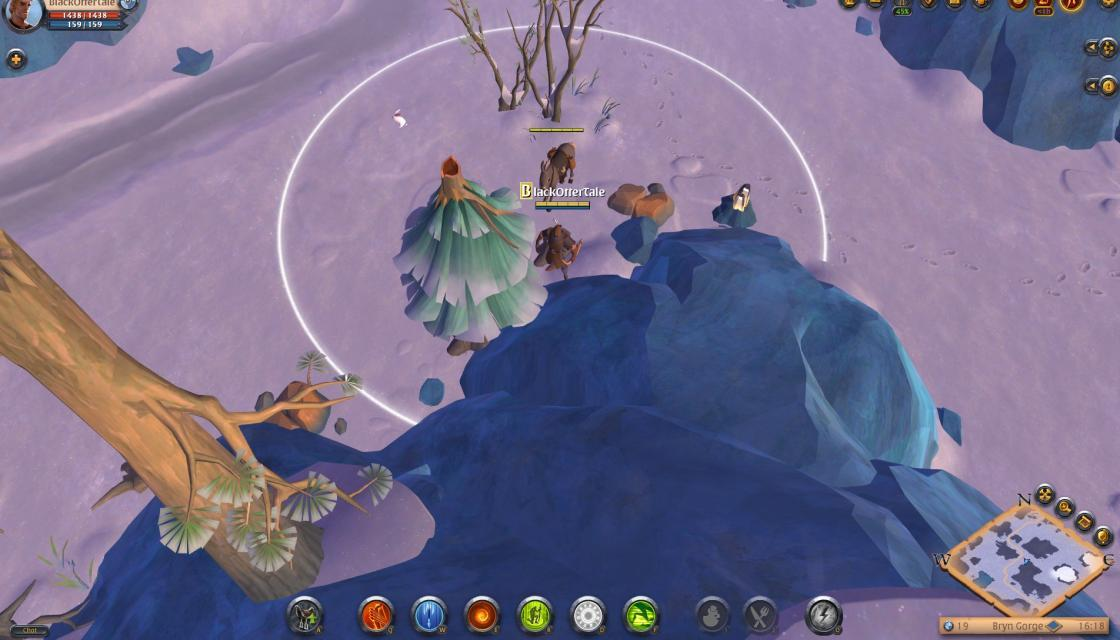copperore: (712, 182, 759, 232)
limestone: (252, 377, 335, 442), (604, 176, 676, 228)
